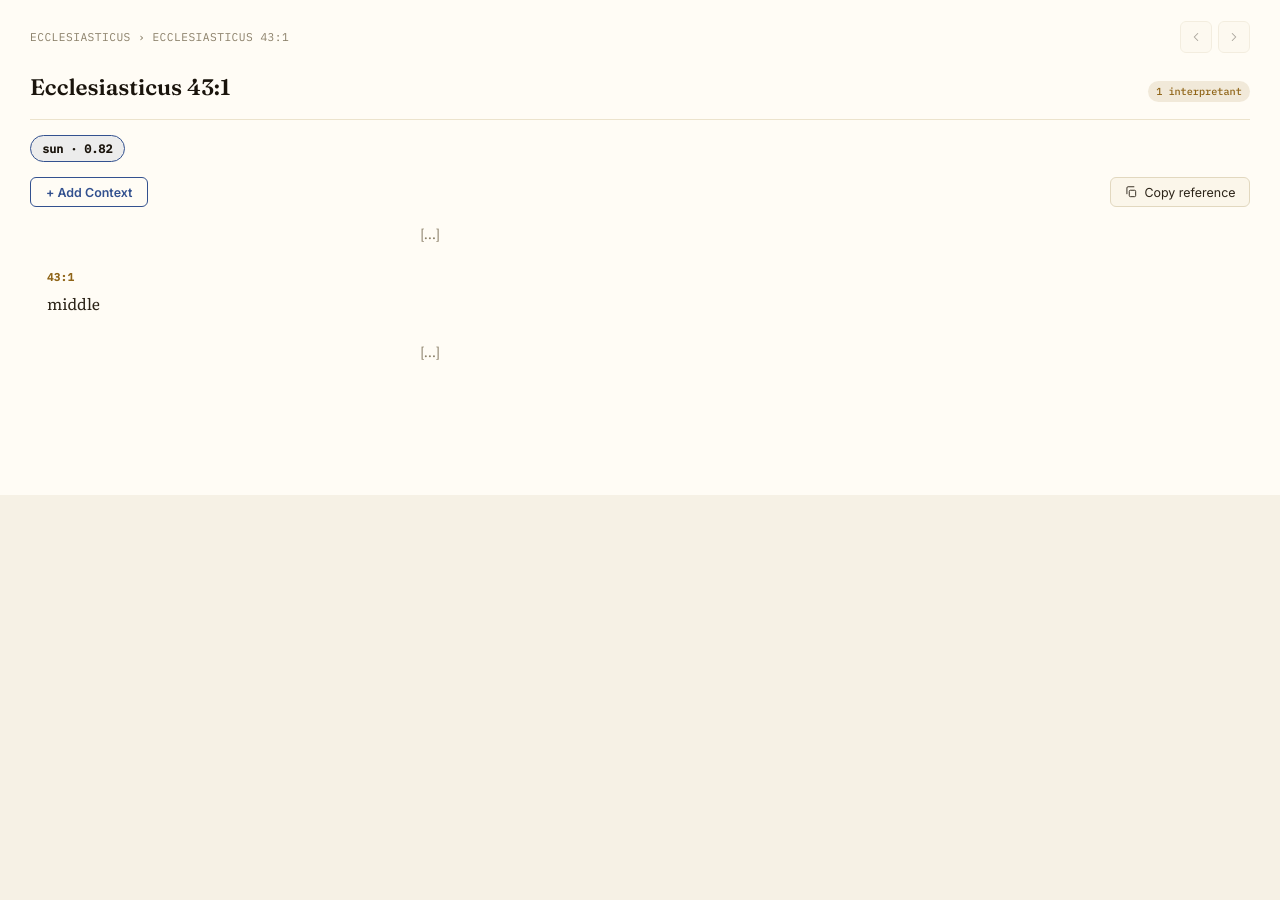
Test case: Add Context › reports the widened region to the parent when the window grew
The width and height of the screenshot is (1280, 900).
Step 1. Click the button "+ Add Context" → (89, 192), box left=30, top=177, right=148, bottom=208
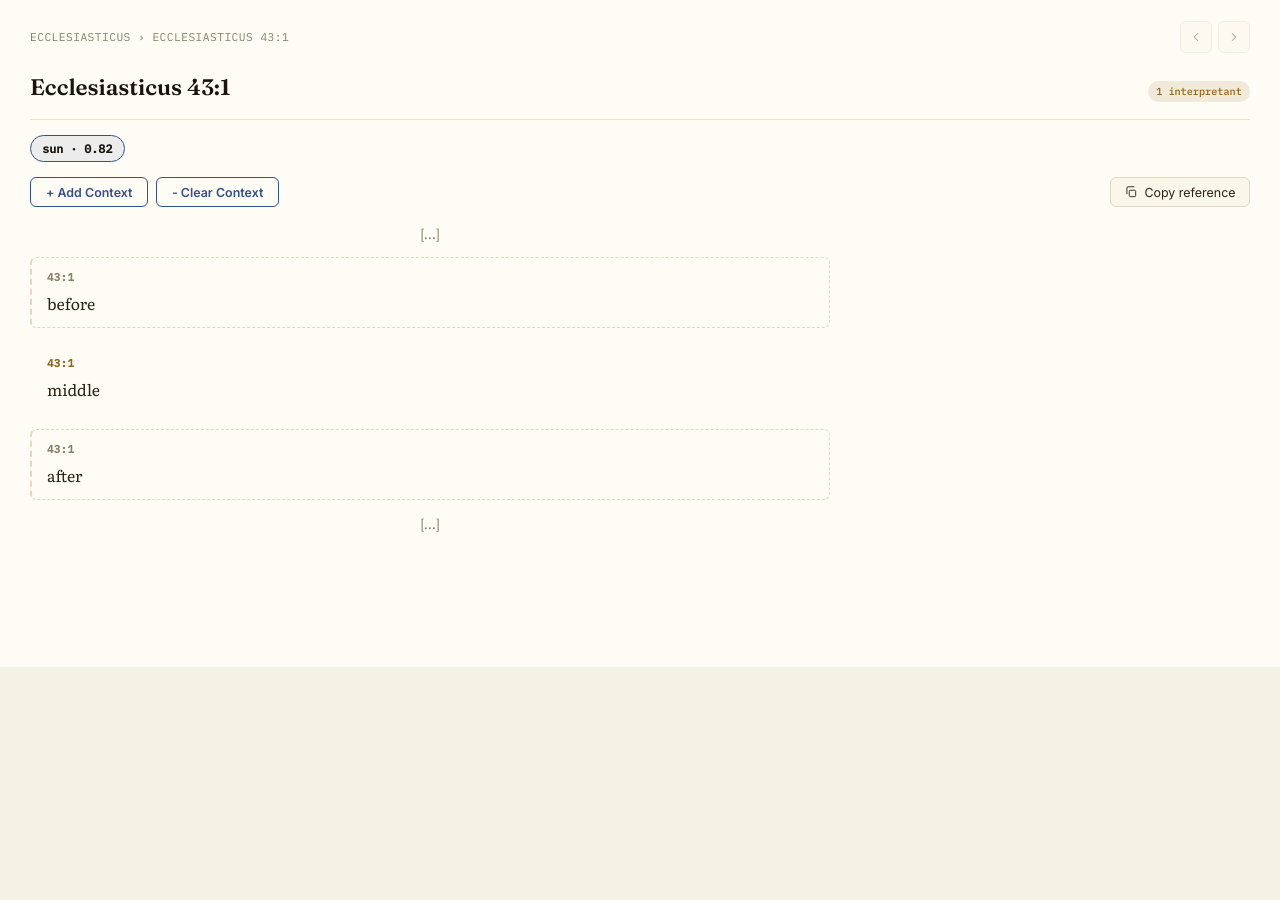
Result: the button "- Clear Context" is shown at left=156, top=177, right=279, bottom=208
